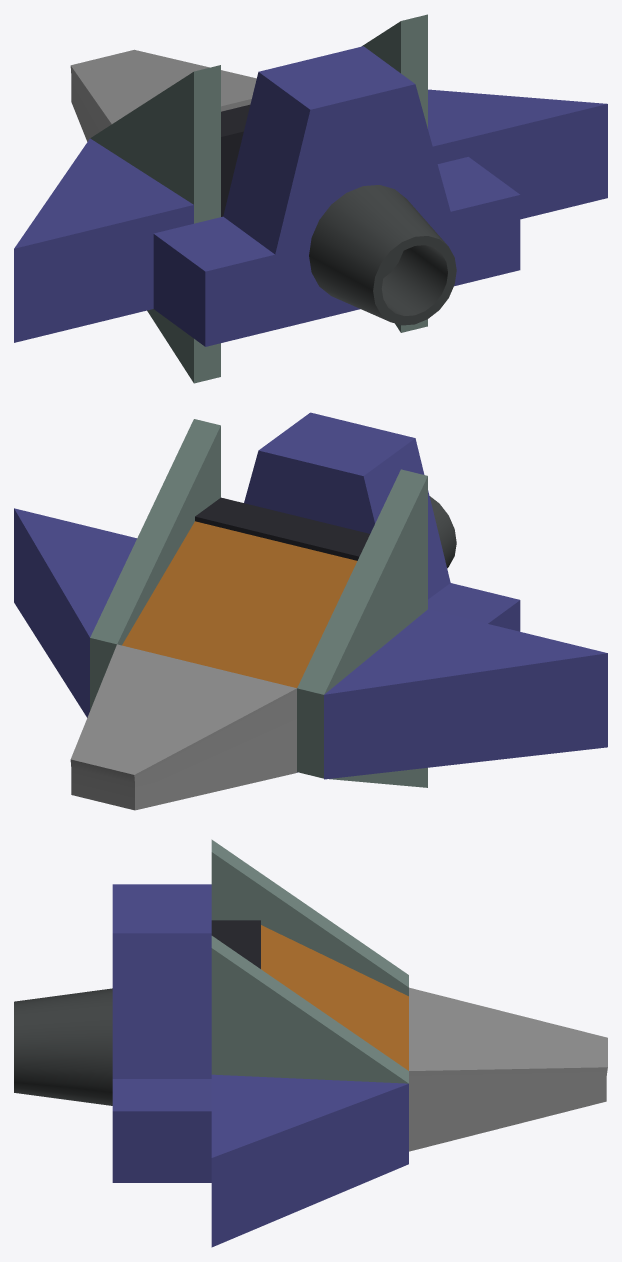
Rendered from Player.fbx.
3 views of the same model, one above another, from view 1: azimuth 30°, elevation 25°; view 2: azimuth 150°, elevation 25°; view 3: azimuth 270°, elevation 25° (orthographic). The views are drawn at different scales.
Visible parts, largest first — view 1: pCube4, pCube3, pCube6, pCube7, pCylinder1, pCube8, pCube2, pCube9, pCube5; view 2: pCube6, pCube5, pCube2, pCube8, pCube4, pCube7, pCube9, pCube3, pCylinder1; view 3: pCube7, pCube2, pCube4, pCube9, pCube5, pCylinder1, pCube3, pCube8.
Part boxes in pixels (x1=…): pCube4: x1=223, y1=46, x2=450, y2=254; pCube3: x1=153, y1=157, x2=520, y2=346; pCube6: x1=14, y1=138, x2=193, y2=342; pCube7: x1=428, y1=89, x2=607, y2=219; pCylinder1: x1=309, y1=185, x2=456, y2=325; pCube8: x1=90, y1=65, x2=220, y2=383; pCube2: x1=70, y1=49, x2=256, y2=141; pCube9: x1=361, y1=14, x2=427, y2=332; pCube5: x1=221, y1=104, x2=250, y2=216; pCube6: x1=324, y1=609, x2=607, y2=779; pCube5: x1=122, y1=497, x2=369, y2=687; pCube2: x1=70, y1=644, x2=296, y2=810; pCube8: x1=297, y1=469, x2=427, y2=787; pCube4: x1=244, y1=412, x2=450, y2=599; pCube7: x1=14, y1=508, x2=136, y2=717; pCube9: x1=90, y1=419, x2=220, y2=710; pCube3: x1=428, y1=583, x2=520, y2=631; pCylinder1: x1=429, y1=496, x2=456, y2=568; pCube7: x1=211, y1=1074, x2=408, y2=1247; pCube2: x1=409, y1=987, x2=607, y2=1151; pCube4: x1=112, y1=884, x2=211, y2=1078; pCube9: x1=211, y1=936, x2=408, y2=1083; pCube5: x1=211, y1=920, x2=408, y2=1070; pCylinder1: x1=14, y1=988, x2=112, y2=1105; pCube3: x1=112, y1=1079, x2=211, y2=1182; pCube8: x1=211, y1=839, x2=408, y2=996.
Bounding box in the file's own units: 3.3 × 1.66 × 3.01.
